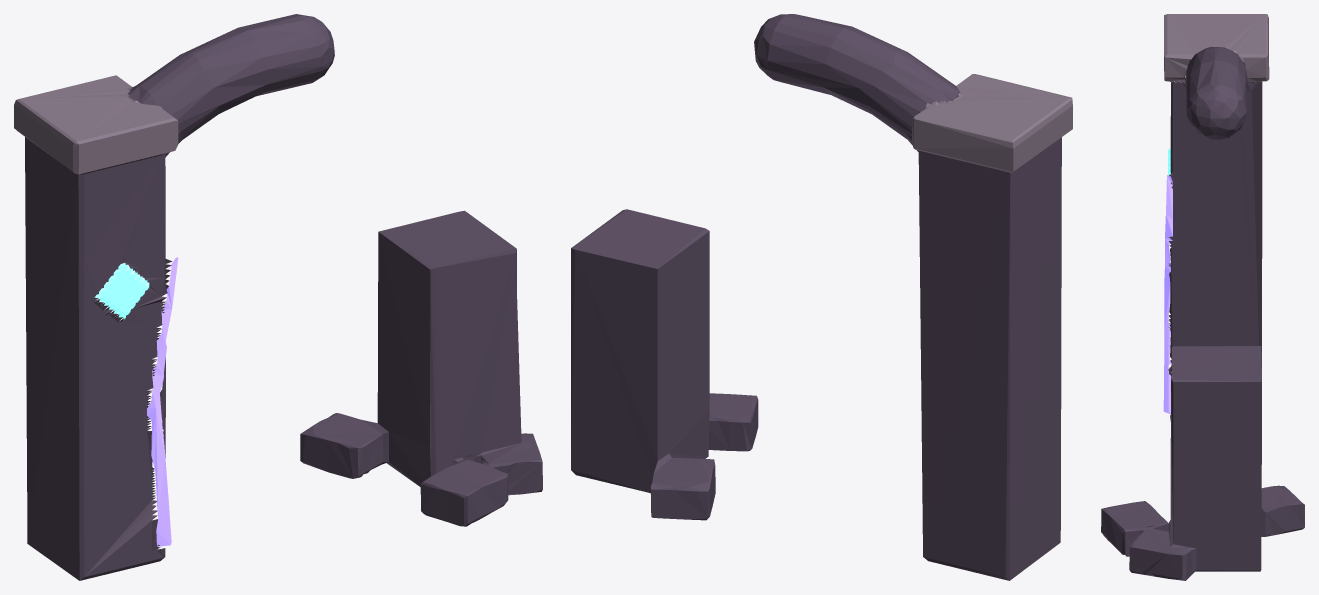
File: ruined_gate.glb
3 renders of one model, left to right at view 1: azimuth 30°, elevation 25°; view 2: azimuth 150°, elevation 25°; view 3: azimuth 270°, elevation 25°, orthographic. The views are drawn at different scales.
Parts seen in each view (by area): view 1: ruined_gate; view 2: ruined_gate; view 3: ruined_gate.
Part boxes in pixels (box(x1,y1,x2,y2)): ruined_gate: box(14, 14, 542, 580); ruined_gate: box(571, 14, 1072, 580); ruined_gate: box(1101, 14, 1304, 580).
Size of the model in its own units: 4.53 by 4.49 by 2.01.
